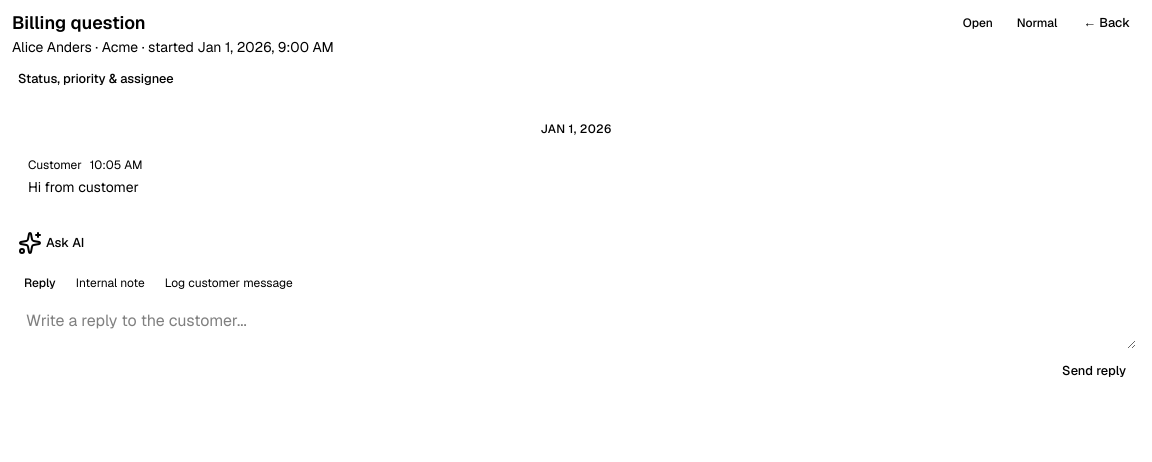
Test: ConversationPane › AI suggestion in the single compose box › sending uses the normal message flow: optimistic bubble, then exactly one sent message
Click the button "Ask AI" at [51, 243], box [8, 229, 94, 257]
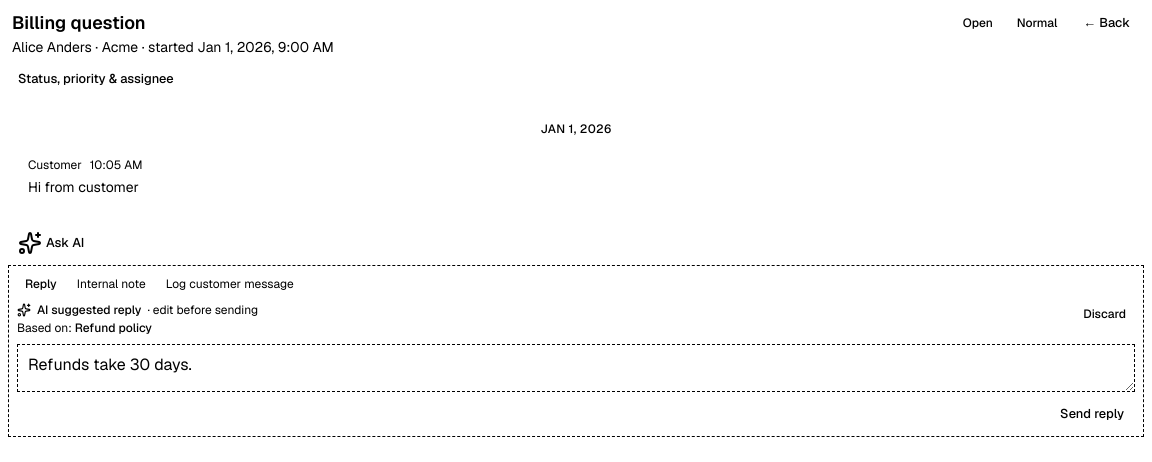
Replace the text in the text box showing "Refunds take 30 days." with "Edited and approved" at [576, 368], box [17, 344, 1135, 392]
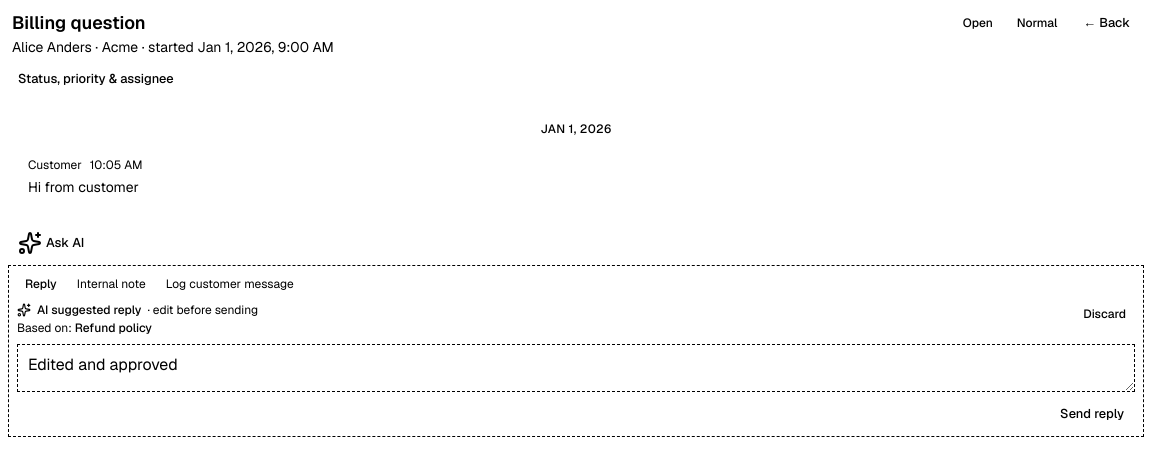
Click the button "Send reply" at [1092, 414], box [1049, 400, 1135, 428]
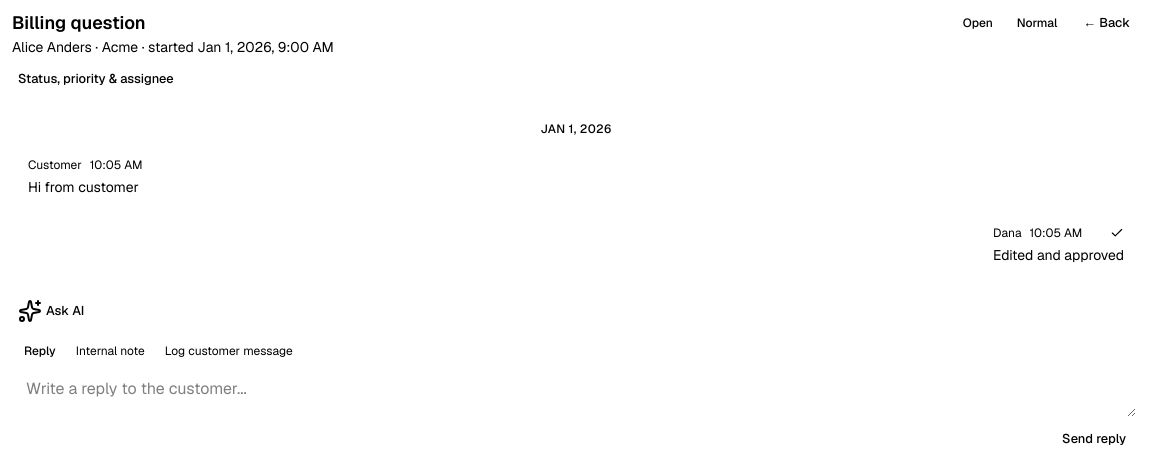
expect the message "AI suggested reply" is gone: met
expect the text box is empty: met, box [16, 369, 1136, 417]
expect the element named "Agent message" shows "Edited and approved": met, box [993, 246, 1124, 264]
